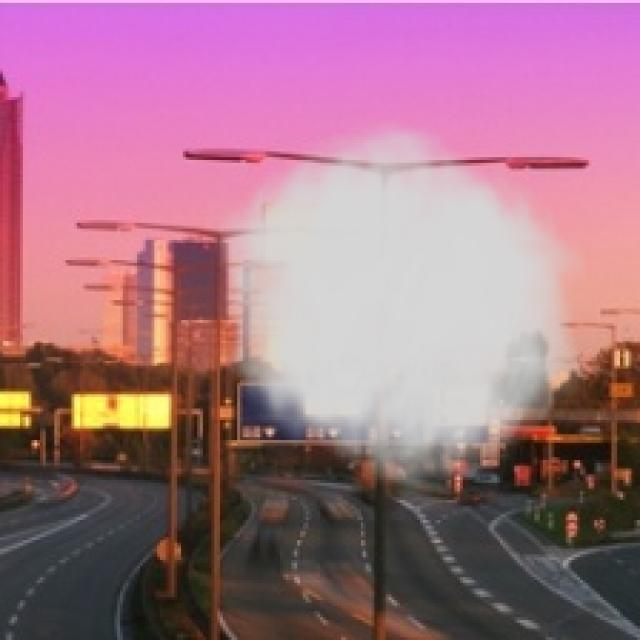Smoke: (203, 108, 586, 503)
